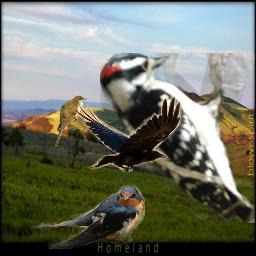Crow: (73, 96, 182, 172)
Cuckoo: (55, 95, 87, 149)
Swallow: (30, 185, 145, 249)
Woodpecker: (100, 53, 255, 223)
